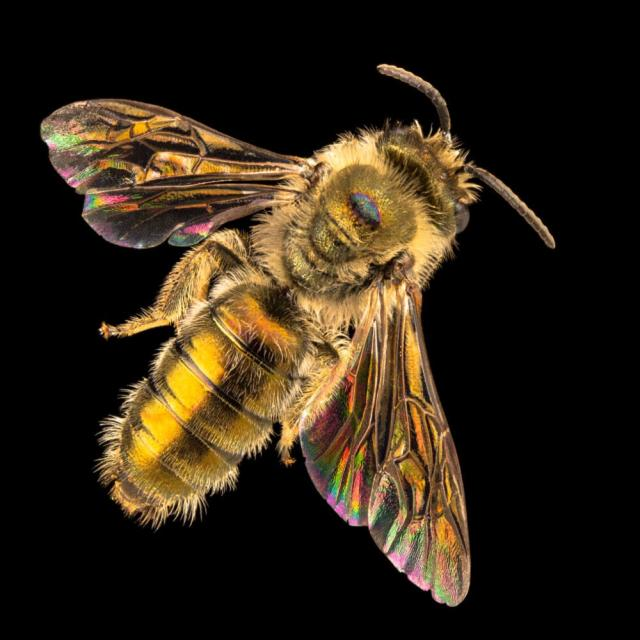Allodapula: (51, 44, 607, 604)
